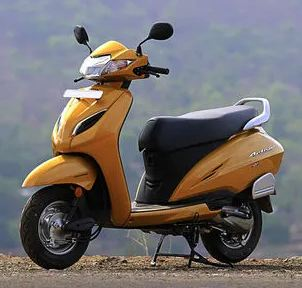bike: (19, 21, 285, 272)
